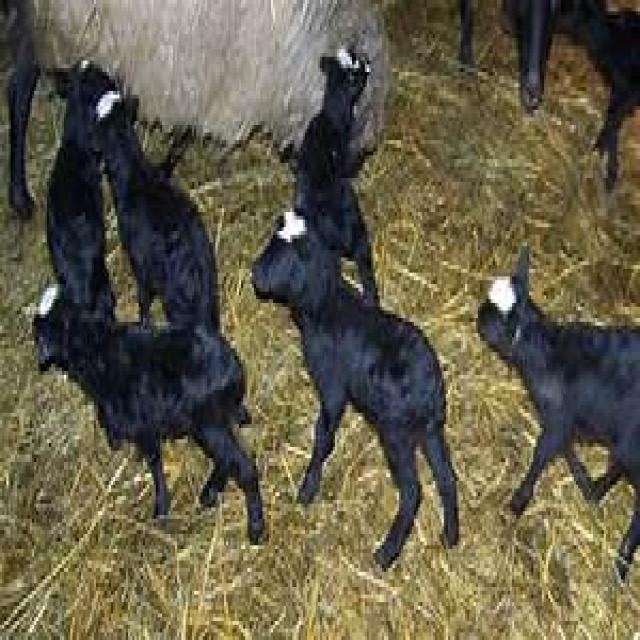sheep: (250, 205, 458, 572), (30, 280, 268, 548), (476, 239, 638, 583), (93, 86, 228, 334), (292, 44, 388, 309), (43, 52, 130, 310)
